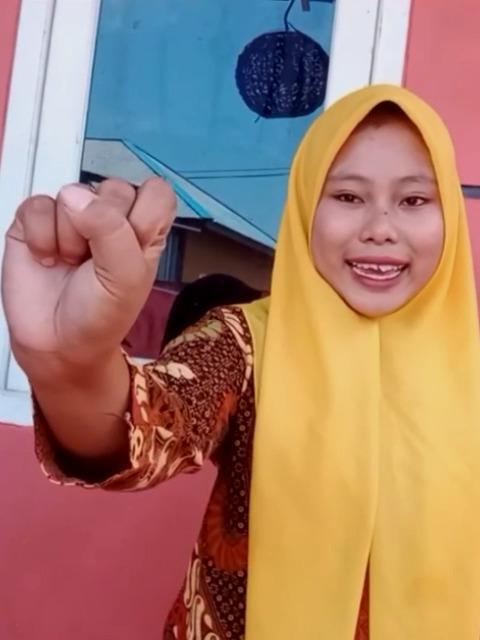S: (0, 176, 180, 362)
